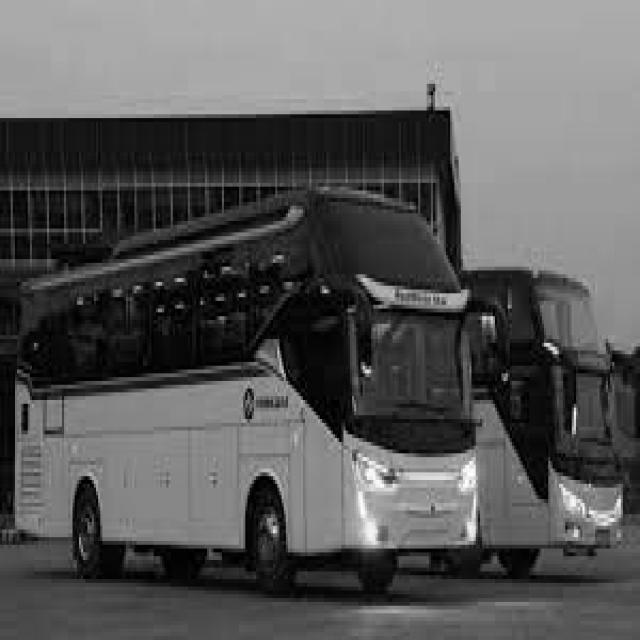Bus: (15, 190, 484, 590), (468, 271, 623, 577)
